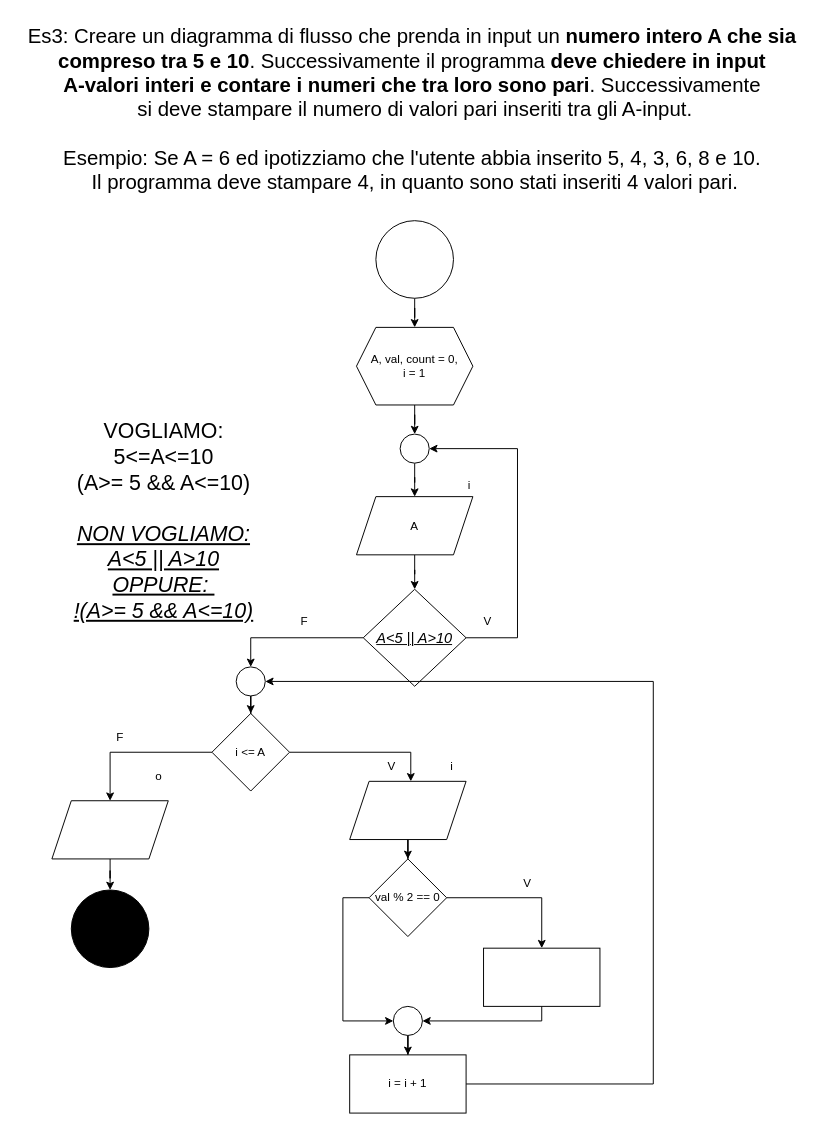
The diagram is 828 pixels wide and 1130 high, and some of its shapes have lost their labels. The shapes that lost their labels are listed below. From the top down, each one's centre as x and y in pixels, then its label:
At (109,829): "count".
At (407,810): "val".
At (541,976): "count = count + 1".
